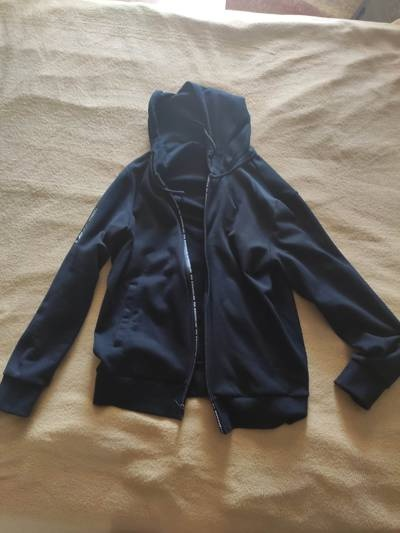Hoodie: (4, 74, 388, 439)
